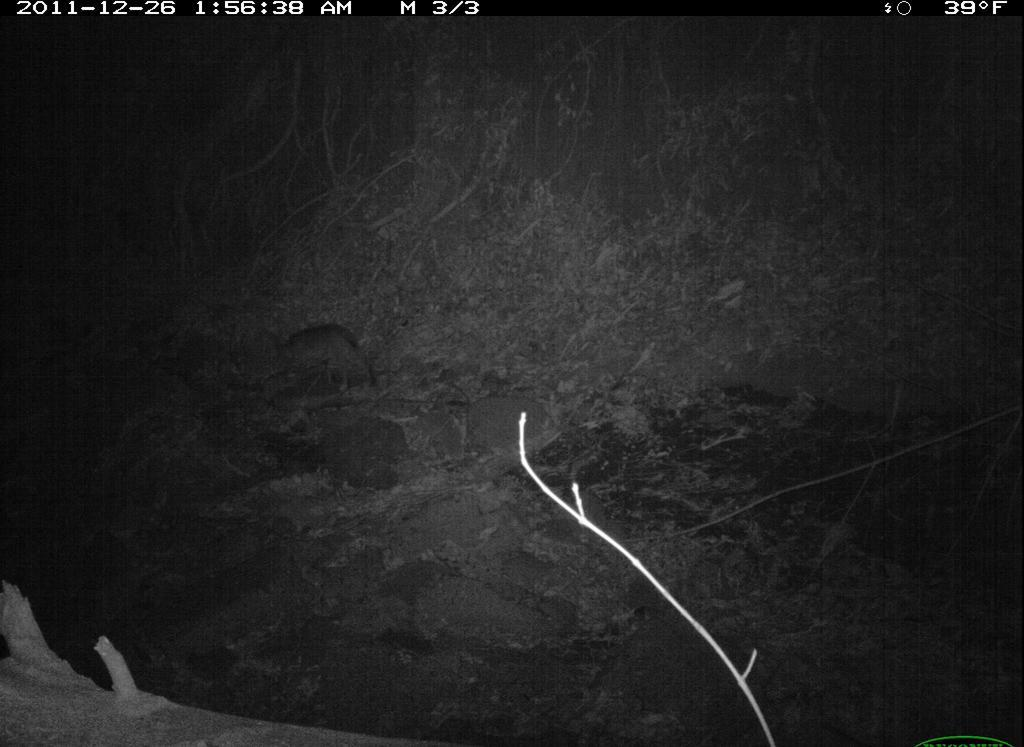bobcat: (273, 315, 383, 408)
